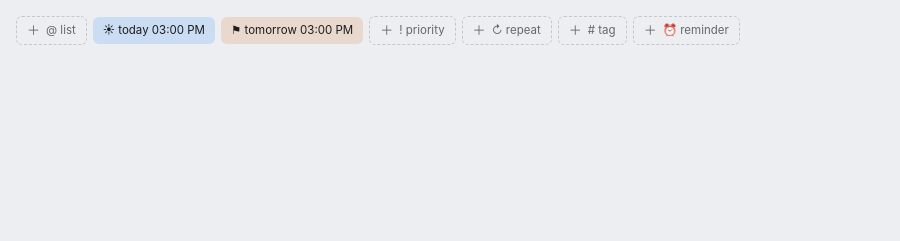
Test: what a reminder counts back from › uses the date when there is one, deadline or not
Step 1. Click the button "＋ ⏰ reminder" → (686, 30), box [633,16,740,45]
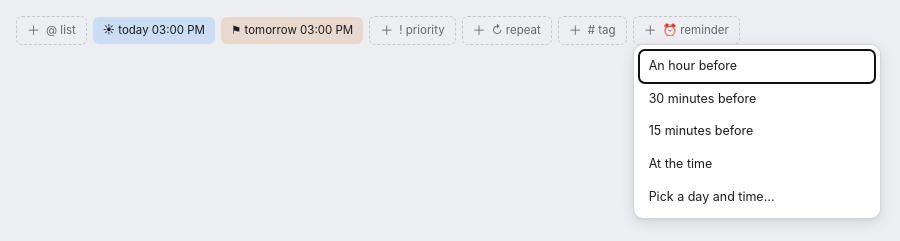
Check: the button "At the time" is shown, box [639,148,875,180]
